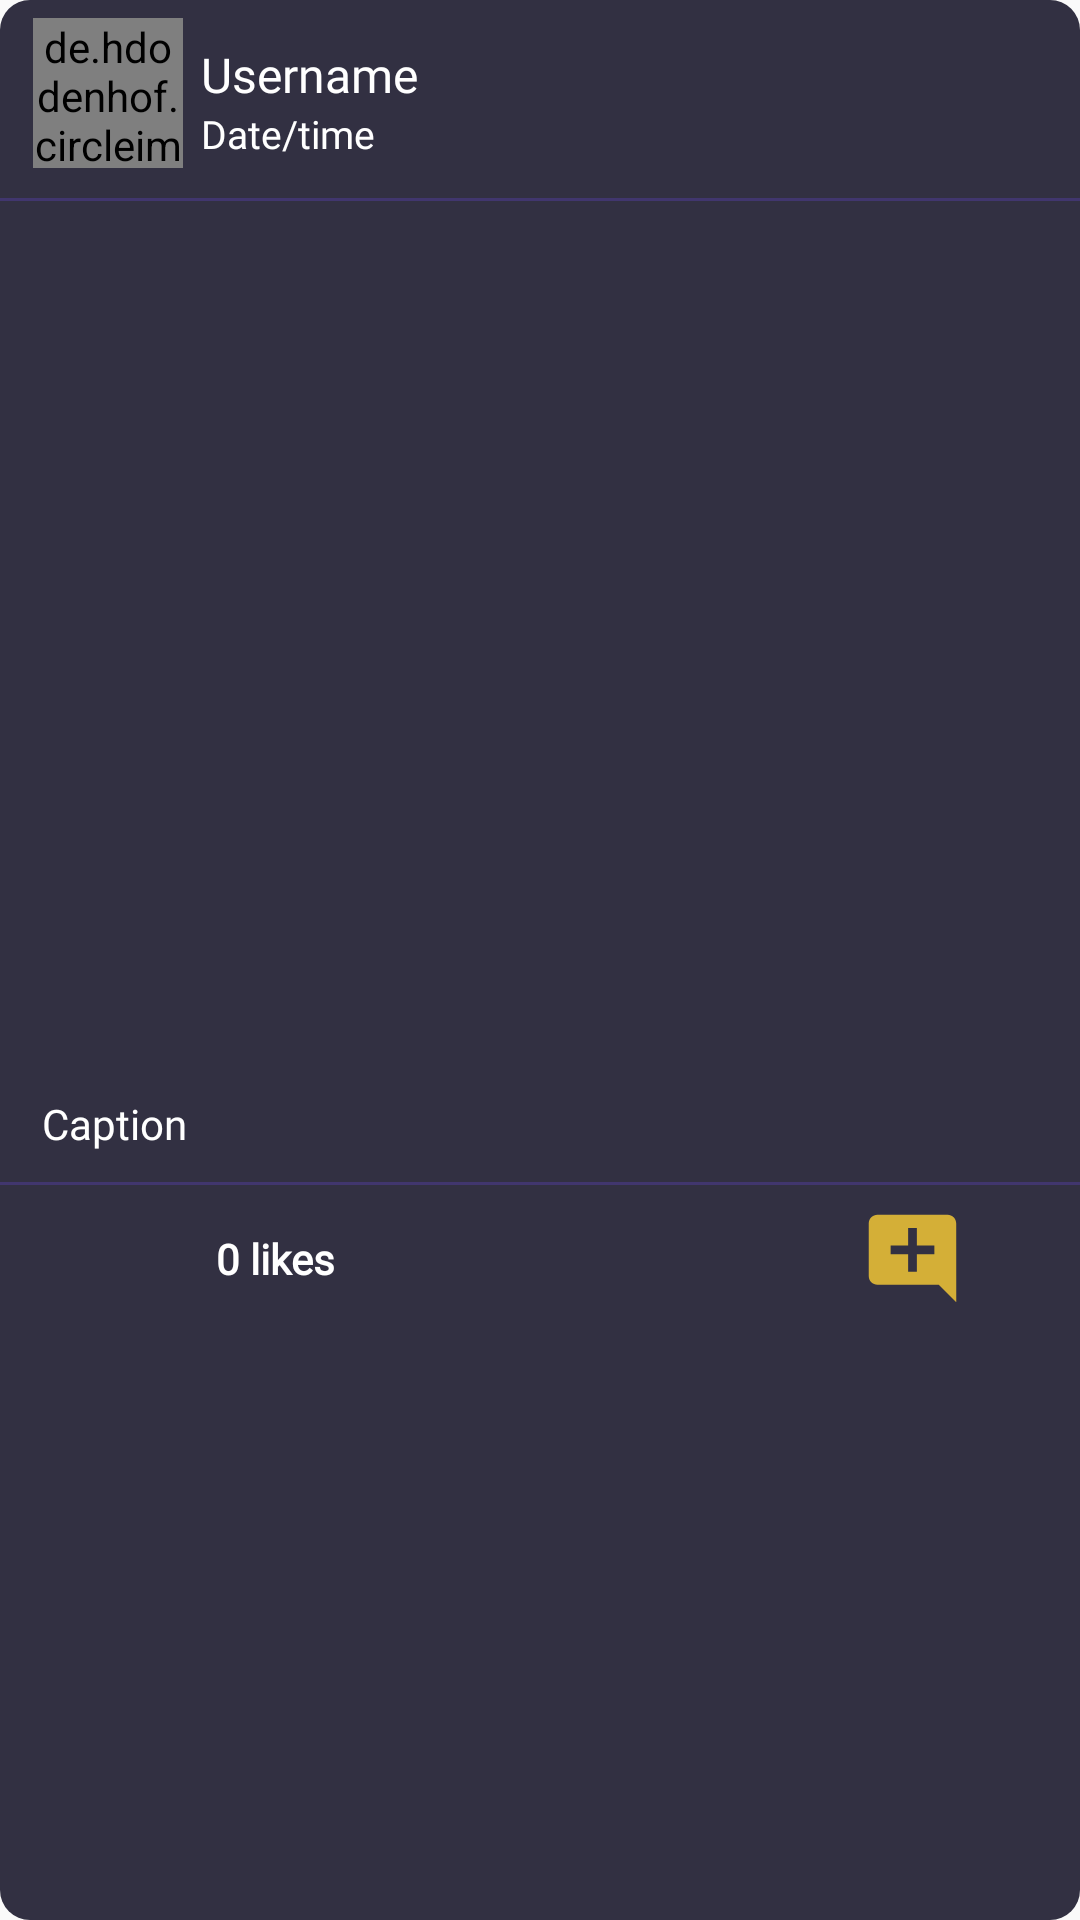

Icon bounding boxes for this 1080x1920 phone screenshot, format (x1, y1, x2, y2):
add comment: (868, 1214, 957, 1302)
